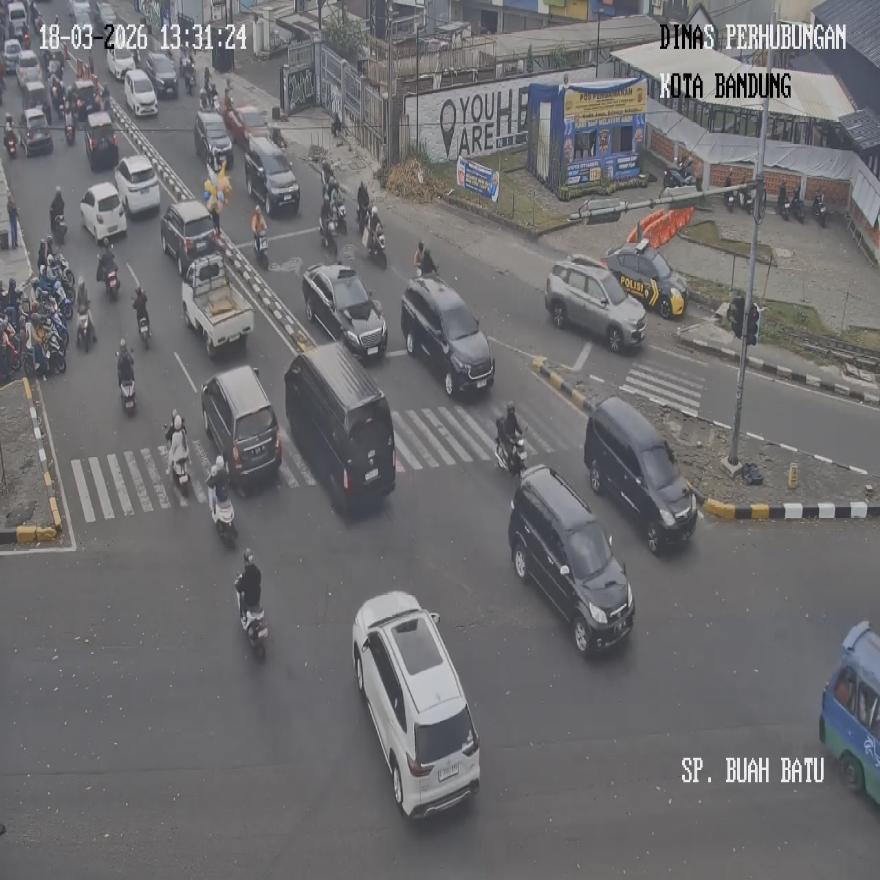Mobil: (352, 590, 480, 816), (507, 464, 636, 656), (284, 342, 396, 512), (584, 396, 698, 552), (400, 274, 494, 396), (818, 620, 879, 806), (544, 254, 646, 353), (202, 364, 280, 493), (303, 262, 387, 360), (181, 253, 252, 357), (602, 236, 688, 319), (244, 134, 300, 216), (162, 198, 220, 274), (114, 154, 160, 214)
Motor: (235, 573, 268, 661), (208, 474, 236, 545), (495, 420, 527, 476), (168, 427, 190, 496), (44, 318, 66, 374), (118, 350, 136, 413), (132, 289, 150, 348), (366, 221, 386, 268), (77, 307, 97, 352), (663, 159, 693, 189), (320, 205, 337, 253), (788, 187, 806, 221), (253, 228, 268, 268), (50, 211, 68, 244), (332, 194, 346, 234), (812, 191, 826, 226), (724, 172, 736, 212), (106, 266, 120, 300), (182, 58, 194, 96), (4, 124, 17, 158), (777, 183, 788, 220), (65, 107, 75, 146)
